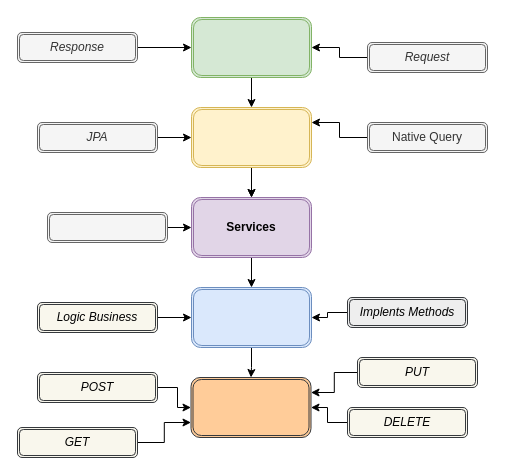
This 505x475 diagram has some shape labels left out. The centre of each missing label's shape, as x and y in pixels:
"Controllers" belongs at point (250, 407).
"Entities" belongs at point (251, 47).
"Methods" belongs at point (107, 227).
"Repository" belongs at point (251, 137).
"Services IMPL" belongs at point (251, 317).
